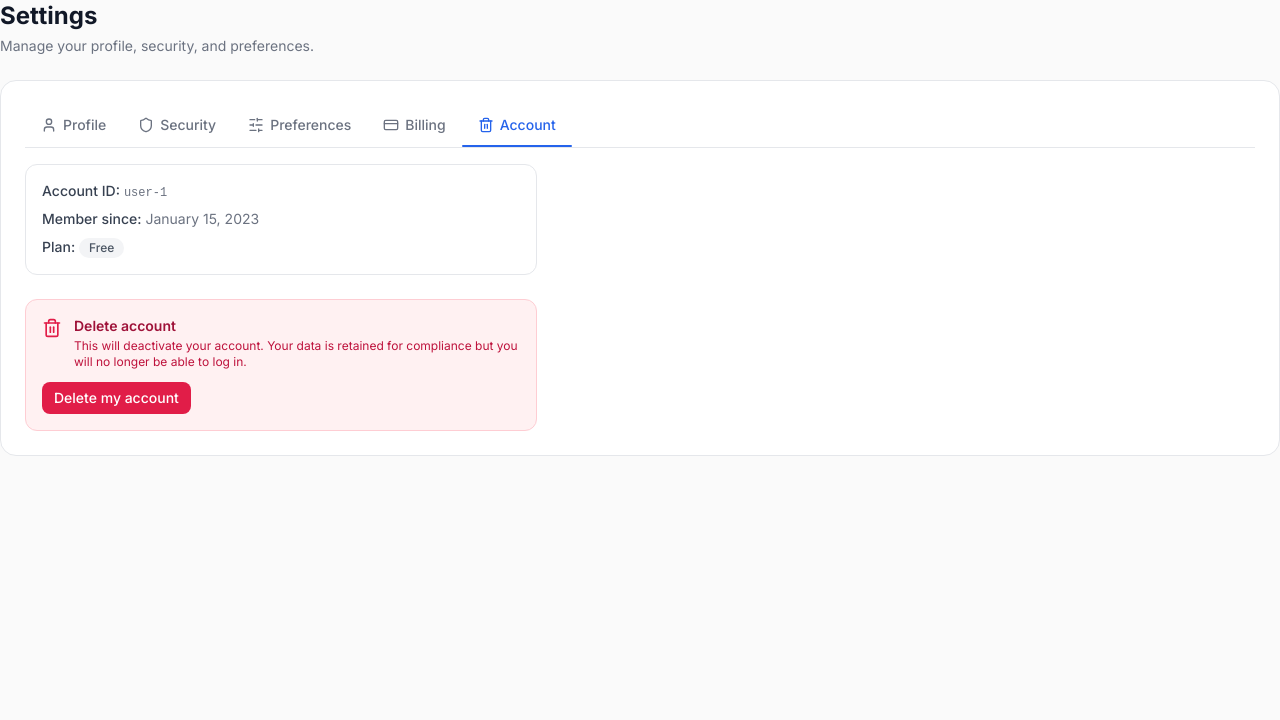
Test case: SettingsPage › Account tab › opens delete modal when delete button is clicked
What coordinates should you click on to do the following:
click the button "Delete my account"
I would click on:
 (116, 398)
Its box is x1=42 y1=382 x2=191 y2=414.
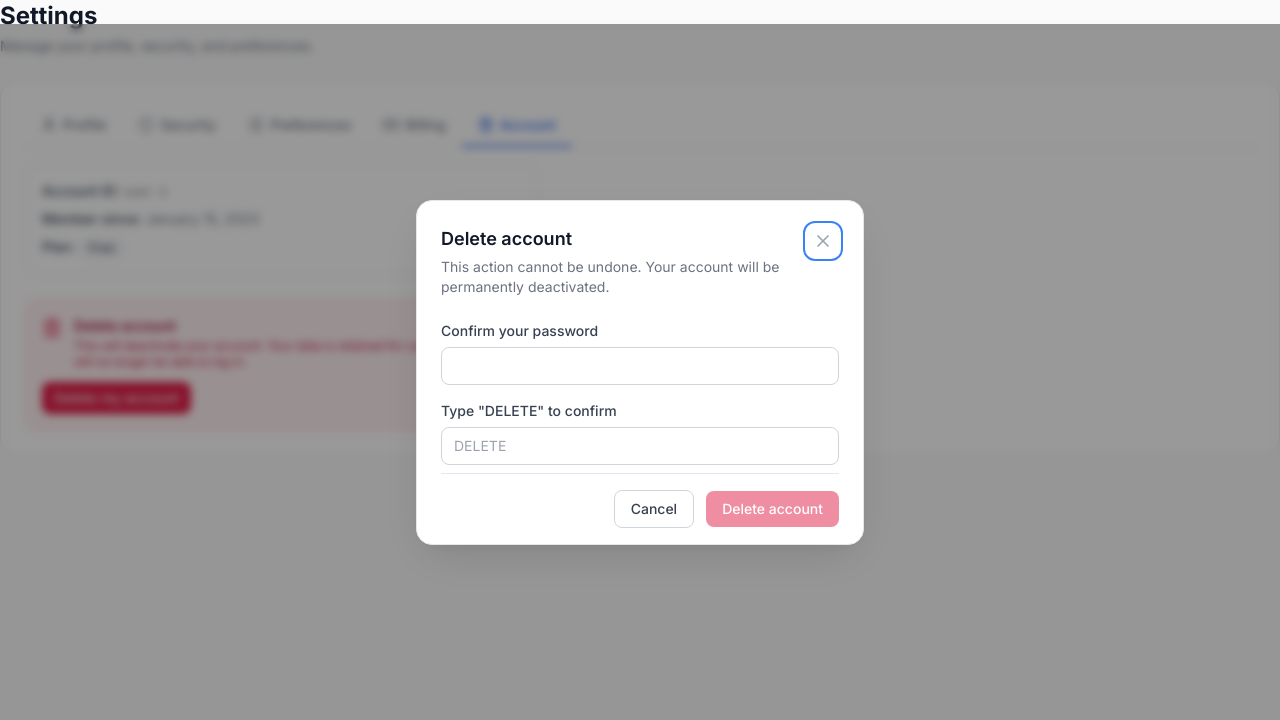
Expected: the text "Confirm your password" is shown, x1=441 y1=322 x2=598 y2=338
